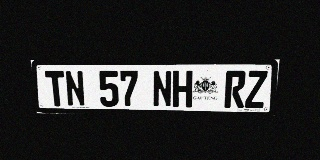5: (99, 71, 119, 107)
7: (119, 71, 139, 107)
H: (173, 71, 193, 107)
N: (64, 71, 86, 107), (152, 71, 172, 107)
R: (224, 70, 246, 108)
T: (45, 71, 67, 106)
Z: (245, 70, 268, 108)
